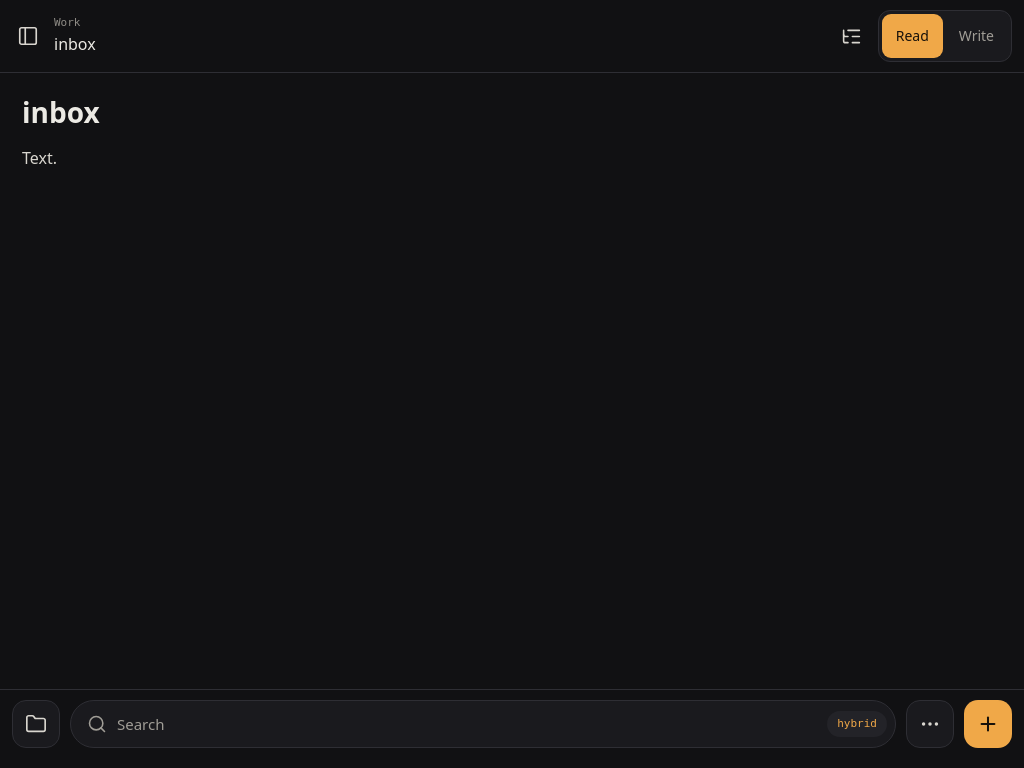
Test: the sidebar on the desktop › is a drawer below the breakpoint, as before
Expected: the heading "inbox" is shown, left=22, top=93, right=100, bottom=131
Click the button named "Open file tree": [28, 36] box left=6, top=14, right=50, bottom=58
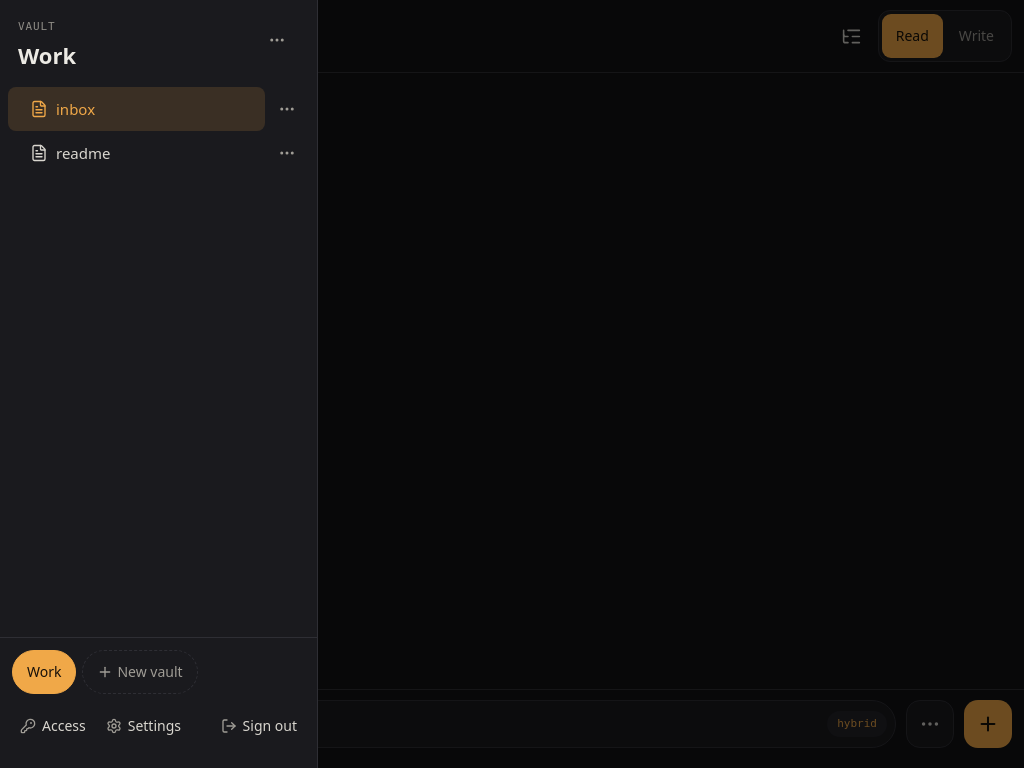
Result: the button named "Close file tree" is shown
// A note opened from the drawer closes it.
Click the button "readme": [136, 153] box left=8, top=131, right=265, bottom=175
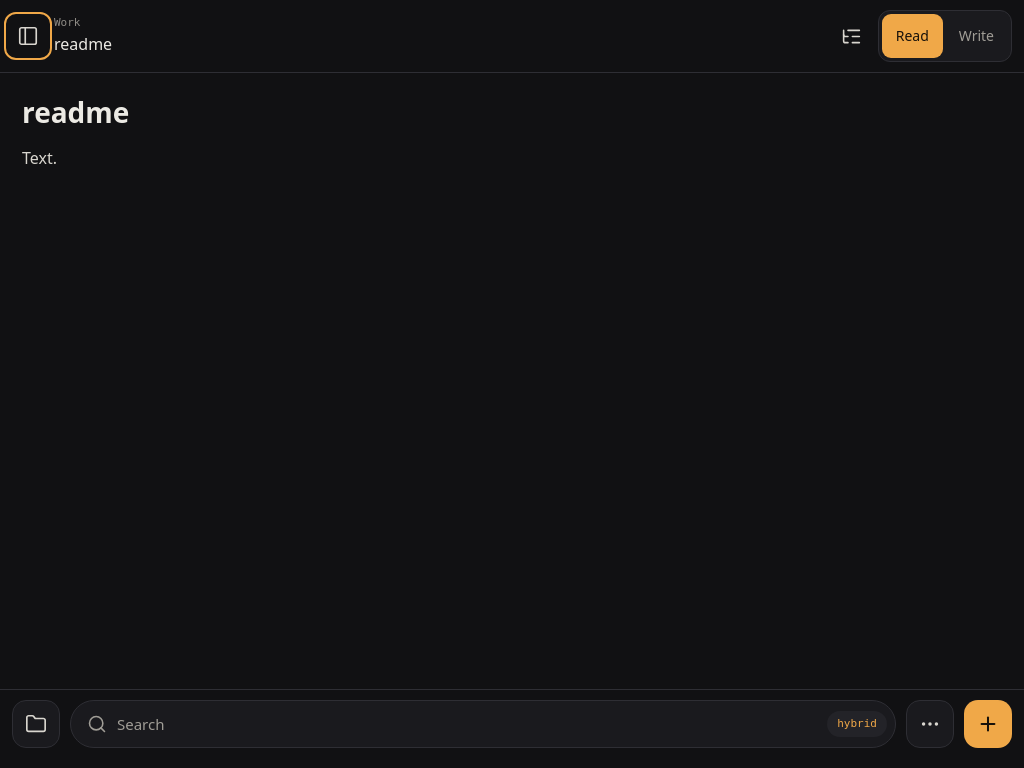
Result: the heading "readme" is shown at left=22, top=93, right=129, bottom=131
